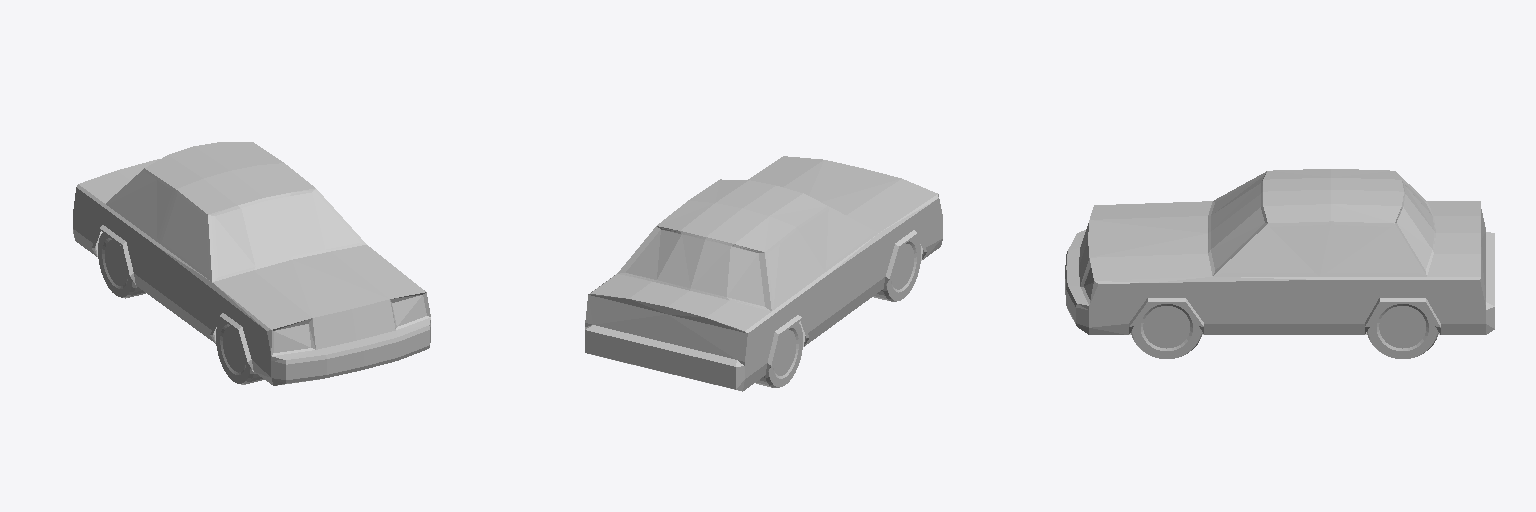
Rendered from Car.obj.
3 views of the same model, side by side, from view 1: azimuth 30°, elevation 25°; view 2: azimuth 150°, elevation 25°; view 3: azimuth 270°, elevation 25° (orthographic).
Parts seen in each view (by area): view 1: Car_Cube; view 2: Car_Cube; view 3: Car_Cube.
Boxes of the visible parts, x1=… form: Car_Cube: x1=73, y1=142, x2=430, y2=385; Car_Cube: x1=585, y1=156, x2=942, y2=391; Car_Cube: x1=1065, y1=169, x2=1494, y2=358.
Size of the model in its own units: 2.1 by 1.59 by 4.67.